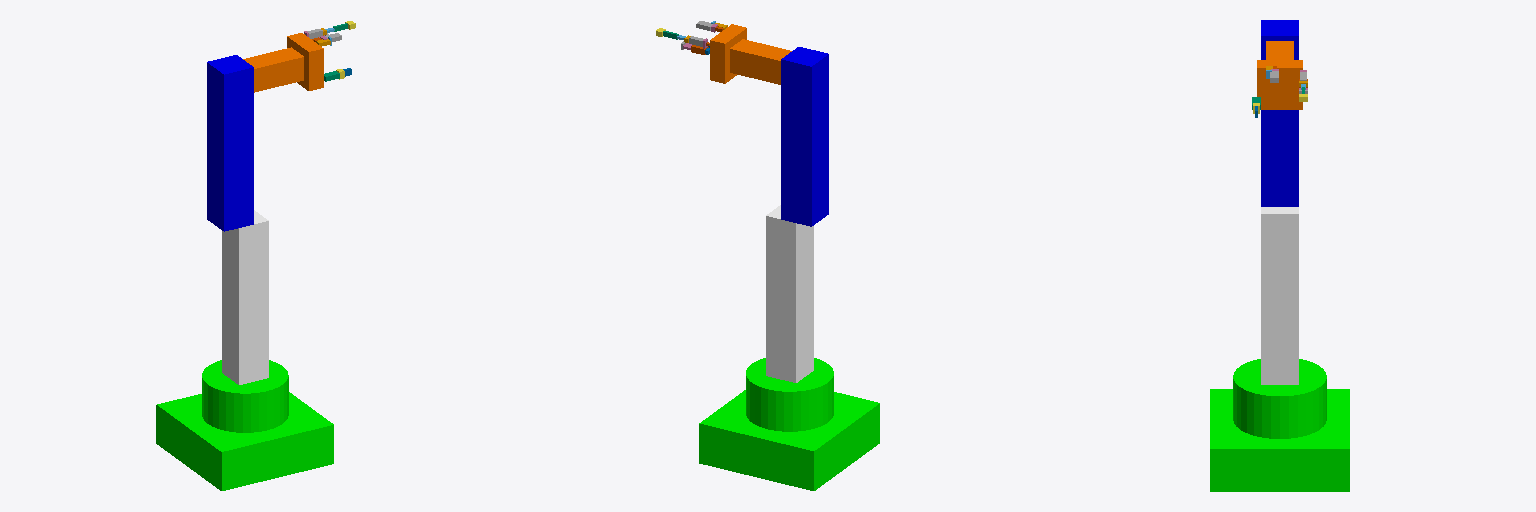
The robot description file, URDF, robot "robot":
<?xml version='1.0' encoding='utf-8'?>
<robot name="robot">
  <link name="base_link">
    <visual>
      <origin xyz="0 0 0.125" rpy="0 0 0" />
      <geometry>
        <box size="0.75 0.75 0.25" />
      </geometry>
      <material name="green" />
    </visual>
    <visual>
      <origin xyz="0 0 0.375" rpy="0 0 0" />
      <geometry>
        <cylinder length="0.25" radius="0.25" />
      </geometry>
      <material name="green">
        <color rgba="0 1 0 1" />
      </material>
    </visual>
    <collision>
      <geometry>
        <box size="0.75 0.75 0.5" />
      </geometry>
    </collision>
    <inertial>
      <mass value="0.5" />
      <inertia ixx="0.034" ixy="0.0" ixz="0.0" iyy="0.034" iyz="0.0" izz="0.034" />
    </inertial>
  </link>
  <link name="support_link">
    <visual>
      <origin xyz="0 0 0.5" rpy="0 0 0" />
      <geometry>
        <box size="0.2 0.2 1" />
      </geometry>
      <material name="white">
        <color rgba="1 1 1 1" />
      </material>
    </visual>
    <collision>
      <geometry>
        <box size="0.2 0.2 1" />
      </geometry>
    </collision>
    <inertial>
      <mass value="0.1" />
      <inertia ixx="0.01" ixy="0.0" ixz="0.0" iyy="0.01" iyz="0.0" izz="0.01" />
    </inertial>
  </link>
  <joint name="support_joint" type="continuous">
    <origin xyz="0 0 0.5" rpy="0 0 0" />
    <parent link="base_link" />
    <child link="support_link" />
    <axis xyz="0 0 1" />
  </joint>
  <link name="arm_link">
    <visual>
      <origin xyz="0 0 0.5" rpy="0 0 0" />
      <geometry>
        <box size="0.2 0.2 1" />
      </geometry>
      <material name="blue">
        <color rgba="0 0 1 1" />
      </material>
    </visual>
    <collision>
      <geometry>
        <box size="0.2 0.2 1" />
      </geometry>
    </collision>
    <inertial>
      <mass value="0.1" />
      <inertia ixx="0.01" ixy="0.0" ixz="0.0" iyy="0.01" iyz="0.0" izz="0.01" />
    </inertial>
  </link>
  <joint name="arm_joint" type="revolute">
    <origin xyz="-0.1 0 1" rpy="0 0 0" />
    <parent link="support_link" />
    <child link="arm_link" />
    <axis xyz="0 1 0" />
    <limit lower="-3.14" upper="3.14" effort="1.0" velocity="1.0" />
  </joint>
  <link name="wrist_link">
    <visual>
      <origin xyz="0 0 0.25" rpy="0 0 0" />
      <geometry>
        <box size="0.15 0.15 0.5" />
      </geometry>
      <material name="orange">
        <color rgba="1 0.5 0 1" />
      </material>
    </visual>
    <collision>
      <geometry>
        <box size="0.15 0.15 0.5" />
      </geometry>
    </collision>
    <inertial>
      <mass value="0.1" />
      <inertia ixx="0.01" ixy="0.0" ixz="0.0" iyy="0.01" iyz="0.0" izz="0.01" />
    </inertial>
  </link>
  <joint name="wrist_joint" type="fixed">
    <origin xyz="0 0 0.9" rpy="0 1.571 0" />
    <parent link="arm_link" />
    <child link="wrist_link" />
  </joint>
  <link name="palm_link">
    <visual>
      <origin xyz="0 0 0.05" rpy="0 0 0" />
      <geometry>
        <box size="0.25 0.25 0.1" />
      </geometry>
      <material name="orange" />
    </visual>
    <collision>
      <geometry>
        <box size="0.25 0.25 0.1" />
      </geometry>
    </collision>
    <inertial>
      <mass value="0.1" />
      <inertia ixx="0.01" ixy="0.0" ixz="0.0" iyy="0.01" iyz="0.0" izz="0.01" />
    </inertial>
  </link>
  <joint name="palm_joint" type="fixed">
    <origin xyz="0 0 0.45" rpy="0 0 0" />
    <parent link="wrist_link" />
    <child link="palm_link" />
  </joint>
  <link name="finger_link_0_0">
    <visual>
      <origin xyz="0 0 0.011" rpy="0 0 0" />
      <geometry>
        <box size="0.016 0.017 0.022" />
      </geometry>
    </visual>
    <collision>
      <geometry>
        <box size="0.016 0.017 0.022" />
      </geometry>
    </collision>
    <inertial>
      <mass value="0.002" />
      <inertia ixx="0.0" iyy="0.0" izz="0.0" ixy="0" ixz="0" iyz="0" />
    </inertial>
  </link>
  <joint name="finger_joint_palm_link_to_finger_link_0_0" type="revolute">
    <origin xyz="-0.097 0.125 0.1" rpy="0 0 0" />
    <parent link="palm_link" />
    <child link="finger_link_0_0" />
    <axis xyz="-1.0 0.0 0.0" />
    <limit lower="-3.142" upper="3.142" effort="10" velocity="10" />
  </joint>
  <link name="finger_link_0_1">
    <visual>
      <origin xyz="0 0 0.0075" rpy="0 0 0" />
      <geometry>
        <box size="0.047 0.04 0.015" />
      </geometry>
    </visual>
    <collision>
      <geometry>
        <box size="0.047 0.04 0.015" />
      </geometry>
    </collision>
    <inertial>
      <mass value="0.008" />
      <inertia ixx="0.0" iyy="0.0" izz="0.0" ixy="0" ixz="0" iyz="0" />
    </inertial>
  </link>
  <joint name="finger_joint_finger_link_0_0_to_finger_link_0_1" type="revolute">
    <origin xyz="0.0 0.0 0.022" rpy="0 0 0" />
    <parent link="finger_link_0_0" />
    <child link="finger_link_0_1" />
    <axis xyz="1.0 1.0 0.0" />
    <limit lower="-3.142" upper="3.142" effort="10" velocity="10" />
  </joint>
  <link name="finger_link_0_2">
    <visual>
      <origin xyz="0 0 0.0455" rpy="0 0 0" />
      <geometry>
        <box size="0.036 0.034 0.091" />
      </geometry>
    </visual>
    <collision>
      <geometry>
        <box size="0.036 0.034 0.091" />
      </geometry>
    </collision>
    <inertial>
      <mass value="0.033" />
      <inertia ixx="0.0" iyy="0.0" izz="0.0" ixy="0" ixz="0" iyz="0" />
    </inertial>
  </link>
  <joint name="finger_joint_finger_link_0_1_to_finger_link_0_2" type="revolute">
    <origin xyz="0.0 0.0 0.015" rpy="0 0 0" />
    <parent link="finger_link_0_1" />
    <child link="finger_link_0_2" />
    <axis xyz="1.0 0.0 0.0" />
    <limit lower="-3.142" upper="3.142" effort="10" velocity="10" />
  </joint>
  <link name="finger_link_0_3">
    <visual>
      <origin xyz="0 0 0.013" rpy="0 0 0" />
      <geometry>
        <box size="0.026 0.044 0.026" />
      </geometry>
    </visual>
    <collision>
      <geometry>
        <box size="0.026 0.044 0.026" />
      </geometry>
    </collision>
    <inertial>
      <mass value="0.009" />
      <inertia ixx="0.0" iyy="0.0" izz="0.0" ixy="0" ixz="0" iyz="0" />
    </inertial>
  </link>
  <joint name="finger_joint_finger_link_0_2_to_finger_link_0_3" type="revolute">
    <origin xyz="0.0 0.0 0.091" rpy="0 0 0" />
    <parent link="finger_link_0_2" />
    <child link="finger_link_0_3" />
    <axis xyz="0.0 1.0 0.0" />
    <limit lower="-3.142" upper="3.142" effort="10" velocity="10" />
  </joint>
  <link name="finger_link_0_4">
    <visual>
      <origin xyz="0 0 0.027" rpy="0 0 0" />
      <geometry>
        <box size="0.014 0.027 0.054" />
      </geometry>
    </visual>
    <collision>
      <geometry>
        <box size="0.014 0.027 0.054" />
      </geometry>
    </collision>
    <inertial>
      <mass value="0.006" />
      <inertia ixx="0.0" iyy="0.0" izz="0.0" ixy="0" ixz="0" iyz="0" />
    </inertial>
  </link>
  <joint name="finger_joint_finger_link_0_3_to_finger_link_0_4" type="revolute">
    <origin xyz="0.0 0.0 0.026" rpy="0 0 0" />
    <parent link="finger_link_0_3" />
    <child link="finger_link_0_4" />
    <axis xyz="0.0 1.0 0.0" />
    <limit lower="-3.142" upper="3.142" effort="10" velocity="10" />
  </joint>
  <link name="finger_link_0_5">
    <visual>
      <origin xyz="0 0 0.047" rpy="0 0 0" />
      <geometry>
        <box size="0.03 0.015 0.094" />
      </geometry>
    </visual>
    <collision>
      <geometry>
        <box size="0.03 0.015 0.094" />
      </geometry>
    </collision>
    <inertial>
      <mass value="0.013" />
      <inertia ixx="0.0" iyy="0.0" izz="0.0" ixy="0" ixz="0" iyz="0" />
    </inertial>
  </link>
  <joint name="finger_joint_finger_link_0_4_to_finger_link_0_5" type="revolute">
    <origin xyz="0.0 0.0 0.054" rpy="0 0 0" />
    <parent link="finger_link_0_4" />
    <child link="finger_link_0_5" />
    <axis xyz="0.0 1.0 0.0" />
    <limit lower="-3.142" upper="3.142" effort="10" velocity="10" />
  </joint>
  <link name="finger_link_0_6">
    <visual>
      <origin xyz="0 0 0.02" rpy="0 0 0" />
      <geometry>
        <box size="0.032 0.047 0.04" />
      </geometry>
    </visual>
    <collision>
      <geometry>
        <box size="0.032 0.047 0.04" />
      </geometry>
    </collision>
    <inertial>
      <mass value="0.018" />
      <inertia ixx="0.0" iyy="0.0" izz="0.0" ixy="0" ixz="0" iyz="0" />
    </inertial>
  </link>
  <joint name="finger_joint_finger_link_0_5_to_finger_link_0_6" type="revolute">
    <origin xyz="0.0 0.0 0.094" rpy="0 0 0" />
    <parent link="finger_link_0_5" />
    <child link="finger_link_0_6" />
    <axis xyz="0.0 1.0 0.0" />
    <limit lower="-3.142" upper="3.142" effort="10" velocity="10" />
  </joint>
  <link name="finger_link_1_0">
    <visual>
      <origin xyz="0 0 0.011" rpy="0 0 0" />
      <geometry>
        <box size="0.025 0.039 0.022" />
      </geometry>
    </visual>
    <collision>
      <geometry>
        <box size="0.025 0.039 0.022" />
      </geometry>
    </collision>
    <inertial>
      <mass value="0.006" />
      <inertia ixx="0.0" iyy="0.0" izz="0.0" ixy="0" ixz="0" iyz="0" />
    </inertial>
  </link>
  <joint name="finger_joint_palm_link_to_finger_link_1_0" type="revolute">
    <origin xyz="-0.052 0.125 0.1" rpy="0 0 0" />
    <parent link="palm_link" />
    <child link="finger_link_1_0" />
    <axis xyz="-1.0 0.0 0.0" />
    <limit lower="-3.142" upper="3.142" effort="10" velocity="10" />
  </joint>
  <link name="finger_link_1_1">
    <visual>
      <origin xyz="0 0 0.0435" rpy="0 0 0" />
      <geometry>
        <box size="0.037 0.046 0.087" />
      </geometry>
    </visual>
    <collision>
      <geometry>
        <box size="0.037 0.046 0.087" />
      </geometry>
    </collision>
    <inertial>
      <mass value="0.044" />
      <inertia ixx="0.0" iyy="0.0" izz="0.0" ixy="0" ixz="0" iyz="0" />
    </inertial>
  </link>
  <joint name="finger_joint_finger_link_1_0_to_finger_link_1_1" type="revolute">
    <origin xyz="0.0 0.0 0.022" rpy="0 0 0" />
    <parent link="finger_link_1_0" />
    <child link="finger_link_1_1" />
    <axis xyz="0.0 1.0 0.0" />
    <limit lower="-3.142" upper="3.142" effort="10" velocity="10" />
  </joint>
  <link name="finger_link_1_2">
    <visual>
      <origin xyz="0 0 0.028" rpy="0 0 0" />
      <geometry>
        <box size="0.014 0.048 0.056" />
      </geometry>
    </visual>
    <collision>
      <geometry>
        <box size="0.014 0.048 0.056" />
      </geometry>
    </collision>
    <inertial>
      <mass value="0.011" />
      <inertia ixx="0.0" iyy="0.0" izz="0.0" ixy="0" ixz="0" iyz="0" />
    </inertial>
  </link>
  <joint name="finger_joint_finger_link_1_1_to_finger_link_1_2" type="revolute">
    <origin xyz="0.0 0.0 0.087" rpy="0 0 0" />
    <parent link="finger_link_1_1" />
    <child link="finger_link_1_2" />
    <axis xyz="0.0 1.0 0.0" />
    <limit lower="-3.142" upper="3.142" effort="10" velocity="10" />
  </joint>
  <link name="finger_link_1_3">
    <visual>
      <origin xyz="0 0 0.0075" rpy="0 0 0" />
      <geometry>
        <box size="0.037 0.044 0.015" />
      </geometry>
    </visual>
    <collision>
      <geometry>
        <box size="0.037 0.044 0.015" />
      </geometry>
    </collision>
    <inertial>
      <mass value="0.007" />
      <inertia ixx="0.0" iyy="0.0" izz="0.0" ixy="0" ixz="0" iyz="0" />
    </inertial>
  </link>
  <joint name="finger_joint_finger_link_1_2_to_finger_link_1_3" type="revolute">
    <origin xyz="0.0 0.0 0.056" rpy="0 0 0" />
    <parent link="finger_link_1_2" />
    <child link="finger_link_1_3" />
    <axis xyz="0.0 1.0 0.0" />
    <limit lower="-3.142" upper="3.142" effort="10" velocity="10" />
  </joint>
  <link name="finger_link_2_0">
    <visual>
      <origin xyz="0 0 0.037" rpy="0 0 0" />
      <geometry>
        <box size="0.024 0.039 0.074" />
      </geometry>
    </visual>
    <collision>
      <geometry>
        <box size="0.024 0.039 0.074" />
      </geometry>
    </collision>
    <inertial>
      <mass value="0.021" />
      <inertia ixx="0.0" iyy="0.0" izz="0.0" ixy="0" ixz="0" iyz="0" />
    </inertial>
  </link>
  <joint name="finger_joint_palm_link_to_finger_link_2_0" type="revolute">
    <origin xyz="-0.125 -0.056 0.1" rpy="0 0 0" />
    <parent link="palm_link" />
    <child link="finger_link_2_0" />
    <axis xyz="0.0 -1.0 0.0" />
    <limit lower="-3.142" upper="3.142" effort="10" velocity="10" />
  </joint>
  <link name="finger_link_2_1">
    <visual>
      <origin xyz="0 0 0.0065" rpy="0 0 0" />
      <geometry>
        <box size="0.046 0.032 0.013" />
      </geometry>
    </visual>
    <collision>
      <geometry>
        <box size="0.046 0.032 0.013" />
      </geometry>
    </collision>
    <inertial>
      <mass value="0.006" />
      <inertia ixx="0.0" iyy="0.0" izz="0.0" ixy="0" ixz="0" iyz="0" />
    </inertial>
  </link>
  <joint name="finger_joint_finger_link_2_0_to_finger_link_2_1" type="revolute">
    <origin xyz="0.0 0.0 0.074" rpy="0 0 0" />
    <parent link="finger_link_2_0" />
    <child link="finger_link_2_1" />
    <axis xyz="0.0 1.0 0.0" />
    <limit lower="-3.142" upper="3.142" effort="10" velocity="10" />
  </joint>
  <link name="finger_link_3_0">
    <visual>
      <origin xyz="0 0 0.0465" rpy="0 0 0" />
      <geometry>
        <box size="0.031 0.044 0.093" />
      </geometry>
    </visual>
    <collision>
      <geometry>
        <box size="0.031 0.044 0.093" />
      </geometry>
    </collision>
    <inertial>
      <mass value="0.038" />
      <inertia ixx="0.0" iyy="0.0" izz="0.0" ixy="0" ixz="0" iyz="0" />
    </inertial>
  </link>
  <joint name="finger_joint_palm_link_to_finger_link_3_0" type="revolute">
    <origin xyz="0.063 -0.125 0.1" rpy="0 0 0" />
    <parent link="palm_link" />
    <child link="finger_link_3_0" />
    <axis xyz="1.0 0.0 0.0" />
    <limit lower="-3.142" upper="3.142" effort="10" velocity="10" />
  </joint>
  <link name="finger_link_3_1">
    <visual>
      <origin xyz="0 0 0.017" rpy="0 0 0" />
      <geometry>
        <box size="0.048 0.038 0.034" />
      </geometry>
    </visual>
    <collision>
      <geometry>
        <box size="0.048 0.038 0.034" />
      </geometry>
    </collision>
    <inertial>
      <mass value="0.019" />
      <inertia ixx="0.0" iyy="0.0" izz="0.0" ixy="0" ixz="0" iyz="0" />
    </inertial>
  </link>
  <joint name="finger_joint_finger_link_3_0_to_finger_link_3_1" type="revolute">
    <origin xyz="0.0 0.0 0.093" rpy="0 0 0" />
    <parent link="finger_link_3_0" />
    <child link="finger_link_3_1" />
    <axis xyz="1.0 0.0 0.0" />
    <limit lower="-3.142" upper="3.142" effort="10" velocity="10" />
  </joint>
  <link name="finger_link_3_2">
    <visual>
      <origin xyz="0 0 0.027" rpy="0 0 0" />
      <geometry>
        <box size="0.04 0.017 0.054" />
      </geometry>
    </visual>
    <collision>
      <geometry>
        <box size="0.04 0.017 0.054" />
      </geometry>
    </collision>
    <inertial>
      <mass value="0.011" />
      <inertia ixx="0.0" iyy="0.0" izz="0.0" ixy="0" ixz="0" iyz="0" />
    </inertial>
  </link>
  <joint name="finger_joint_finger_link_3_1_to_finger_link_3_2" type="revolute">
    <origin xyz="0.0 0.0 0.034" rpy="0 0 0" />
    <parent link="finger_link_3_1" />
    <child link="finger_link_3_2" />
    <axis xyz="0.0 1.0 0.0" />
    <limit lower="-3.142" upper="3.142" effort="10" velocity="10" />
  </joint>
  <link name="finger_link_4_0">
    <visual>
      <origin xyz="0 0 0.0225" rpy="0 0 0" />
      <geometry>
        <box size="0.021 0.028 0.045" />
      </geometry>
    </visual>
    <collision>
      <geometry>
        <box size="0.021 0.028 0.045" />
      </geometry>
    </collision>
    <inertial>
      <mass value="0.008" />
      <inertia ixx="0.0" iyy="0.0" izz="0.0" ixy="0" ixz="0" iyz="0" />
    </inertial>
  </link>
  <joint name="finger_joint_palm_link_to_finger_link_4_0" type="revolute">
    <origin xyz="-0.125 -0.028 0.1" rpy="0 0 0" />
    <parent link="palm_link" />
    <child link="finger_link_4_0" />
    <axis xyz="0.0 -1.0 0.0" />
    <limit lower="-3.142" upper="3.142" effort="10" velocity="10" />
  </joint>
  <link name="finger_link_4_1">
    <visual>
      <origin xyz="0 0 0.0135" rpy="0 0 0" />
      <geometry>
        <box size="0.033 0.042 0.027" />
      </geometry>
    </visual>
    <collision>
      <geometry>
        <box size="0.033 0.042 0.027" />
      </geometry>
    </collision>
    <inertial>
      <mass value="0.011" />
      <inertia ixx="0.0" iyy="0.0" izz="0.0" ixy="0" ixz="0" iyz="0" />
    </inertial>
  </link>
  <joint name="finger_joint_finger_link_4_0_to_finger_link_4_1" type="revolute">
    <origin xyz="0.0 0.0 0.045" rpy="0 0 0" />
    <parent link="finger_link_4_0" />
    <child link="finger_link_4_1" />
    <axis xyz="1.0 0.0 0.0" />
    <limit lower="-3.142" upper="3.142" effort="10" velocity="10" />
  </joint>
  <link name="finger_link_4_2">
    <visual>
      <origin xyz="0 0 0.0455" rpy="0 0 0" />
      <geometry>
        <box size="0.027 0.048 0.091" />
      </geometry>
    </visual>
    <collision>
      <geometry>
        <box size="0.027 0.048 0.091" />
      </geometry>
    </collision>
    <inertial>
      <mass value="0.035" />
      <inertia ixx="0.0" iyy="0.0" izz="0.0" ixy="0" ixz="0" iyz="0" />
    </inertial>
  </link>
  <joint name="finger_joint_finger_link_4_1_to_finger_link_4_2" type="revolute">
    <origin xyz="0.0 0.0 0.027" rpy="0 0 0" />
    <parent link="finger_link_4_1" />
    <child link="finger_link_4_2" />
    <axis xyz="0.0 1.0 0.0" />
    <limit lower="-3.142" upper="3.142" effort="10" velocity="10" />
  </joint>
</robot>

--- What the picture shows (computed from the rendered views, not written in the file) ---
The picture shows the robot from 3 angles, left to right: view 1: azimuth 30°, elevation 25°; view 2: azimuth 150°, elevation 25°; view 3: azimuth 270°, elevation 25°; orthographic projection.
Model robot with 24 links and 23 joints (20 revolute, 1 continuous, 2 fixed), rooted at base_link, posed all joints at 0.
Visible links, largest first — view 1: base_link, arm_link, support_link, wrist_link, palm_link; view 2: base_link, arm_link, support_link, wrist_link, palm_link; view 3: base_link, support_link, arm_link, palm_link, wrist_link.
Boxes of the visible links, x1,y1,x2,y2 form: base_link: (156,360,333,490); arm_link: (207,55,253,231); support_link: (222,210,268,384); wrist_link: (243,47,303,92); palm_link: (287,33,323,90); base_link: (699,358,879,490); arm_link: (781,47,828,226); support_link: (766,205,813,382); wrist_link: (730,39,791,84); palm_link: (710,24,746,83); base_link: (1210,359,1349,491); support_link: (1261,207,1298,384); arm_link: (1261,20,1298,206); palm_link: (1257,60,1302,109); wrist_link: (1266,41,1293,59).
Bounding box of the posed robot: 1.17 × 0.75 × 2.55 m (x, y, z).
Geometry: primitives only (box / cylinder / sphere), no mesh files.